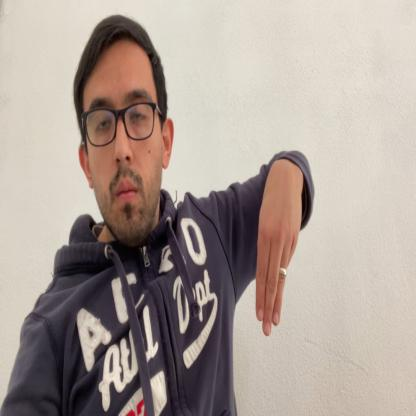M: (256, 162, 302, 338)
